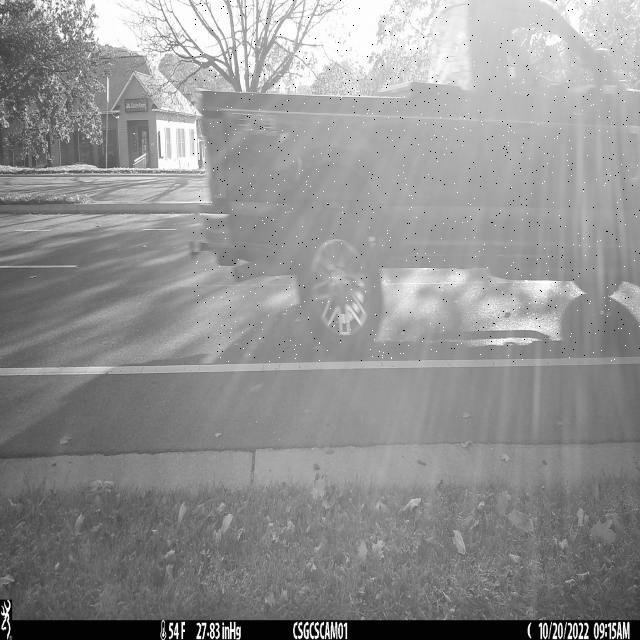Pickup: (192, 0, 640, 362)
